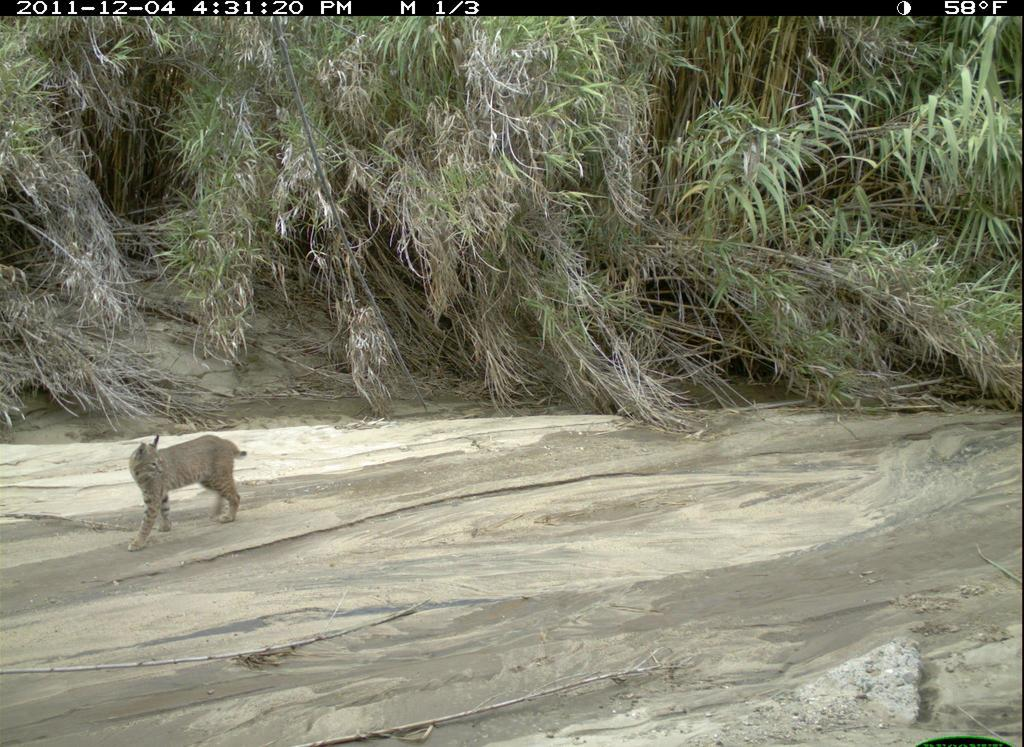bobcat: (126, 424, 251, 560)
